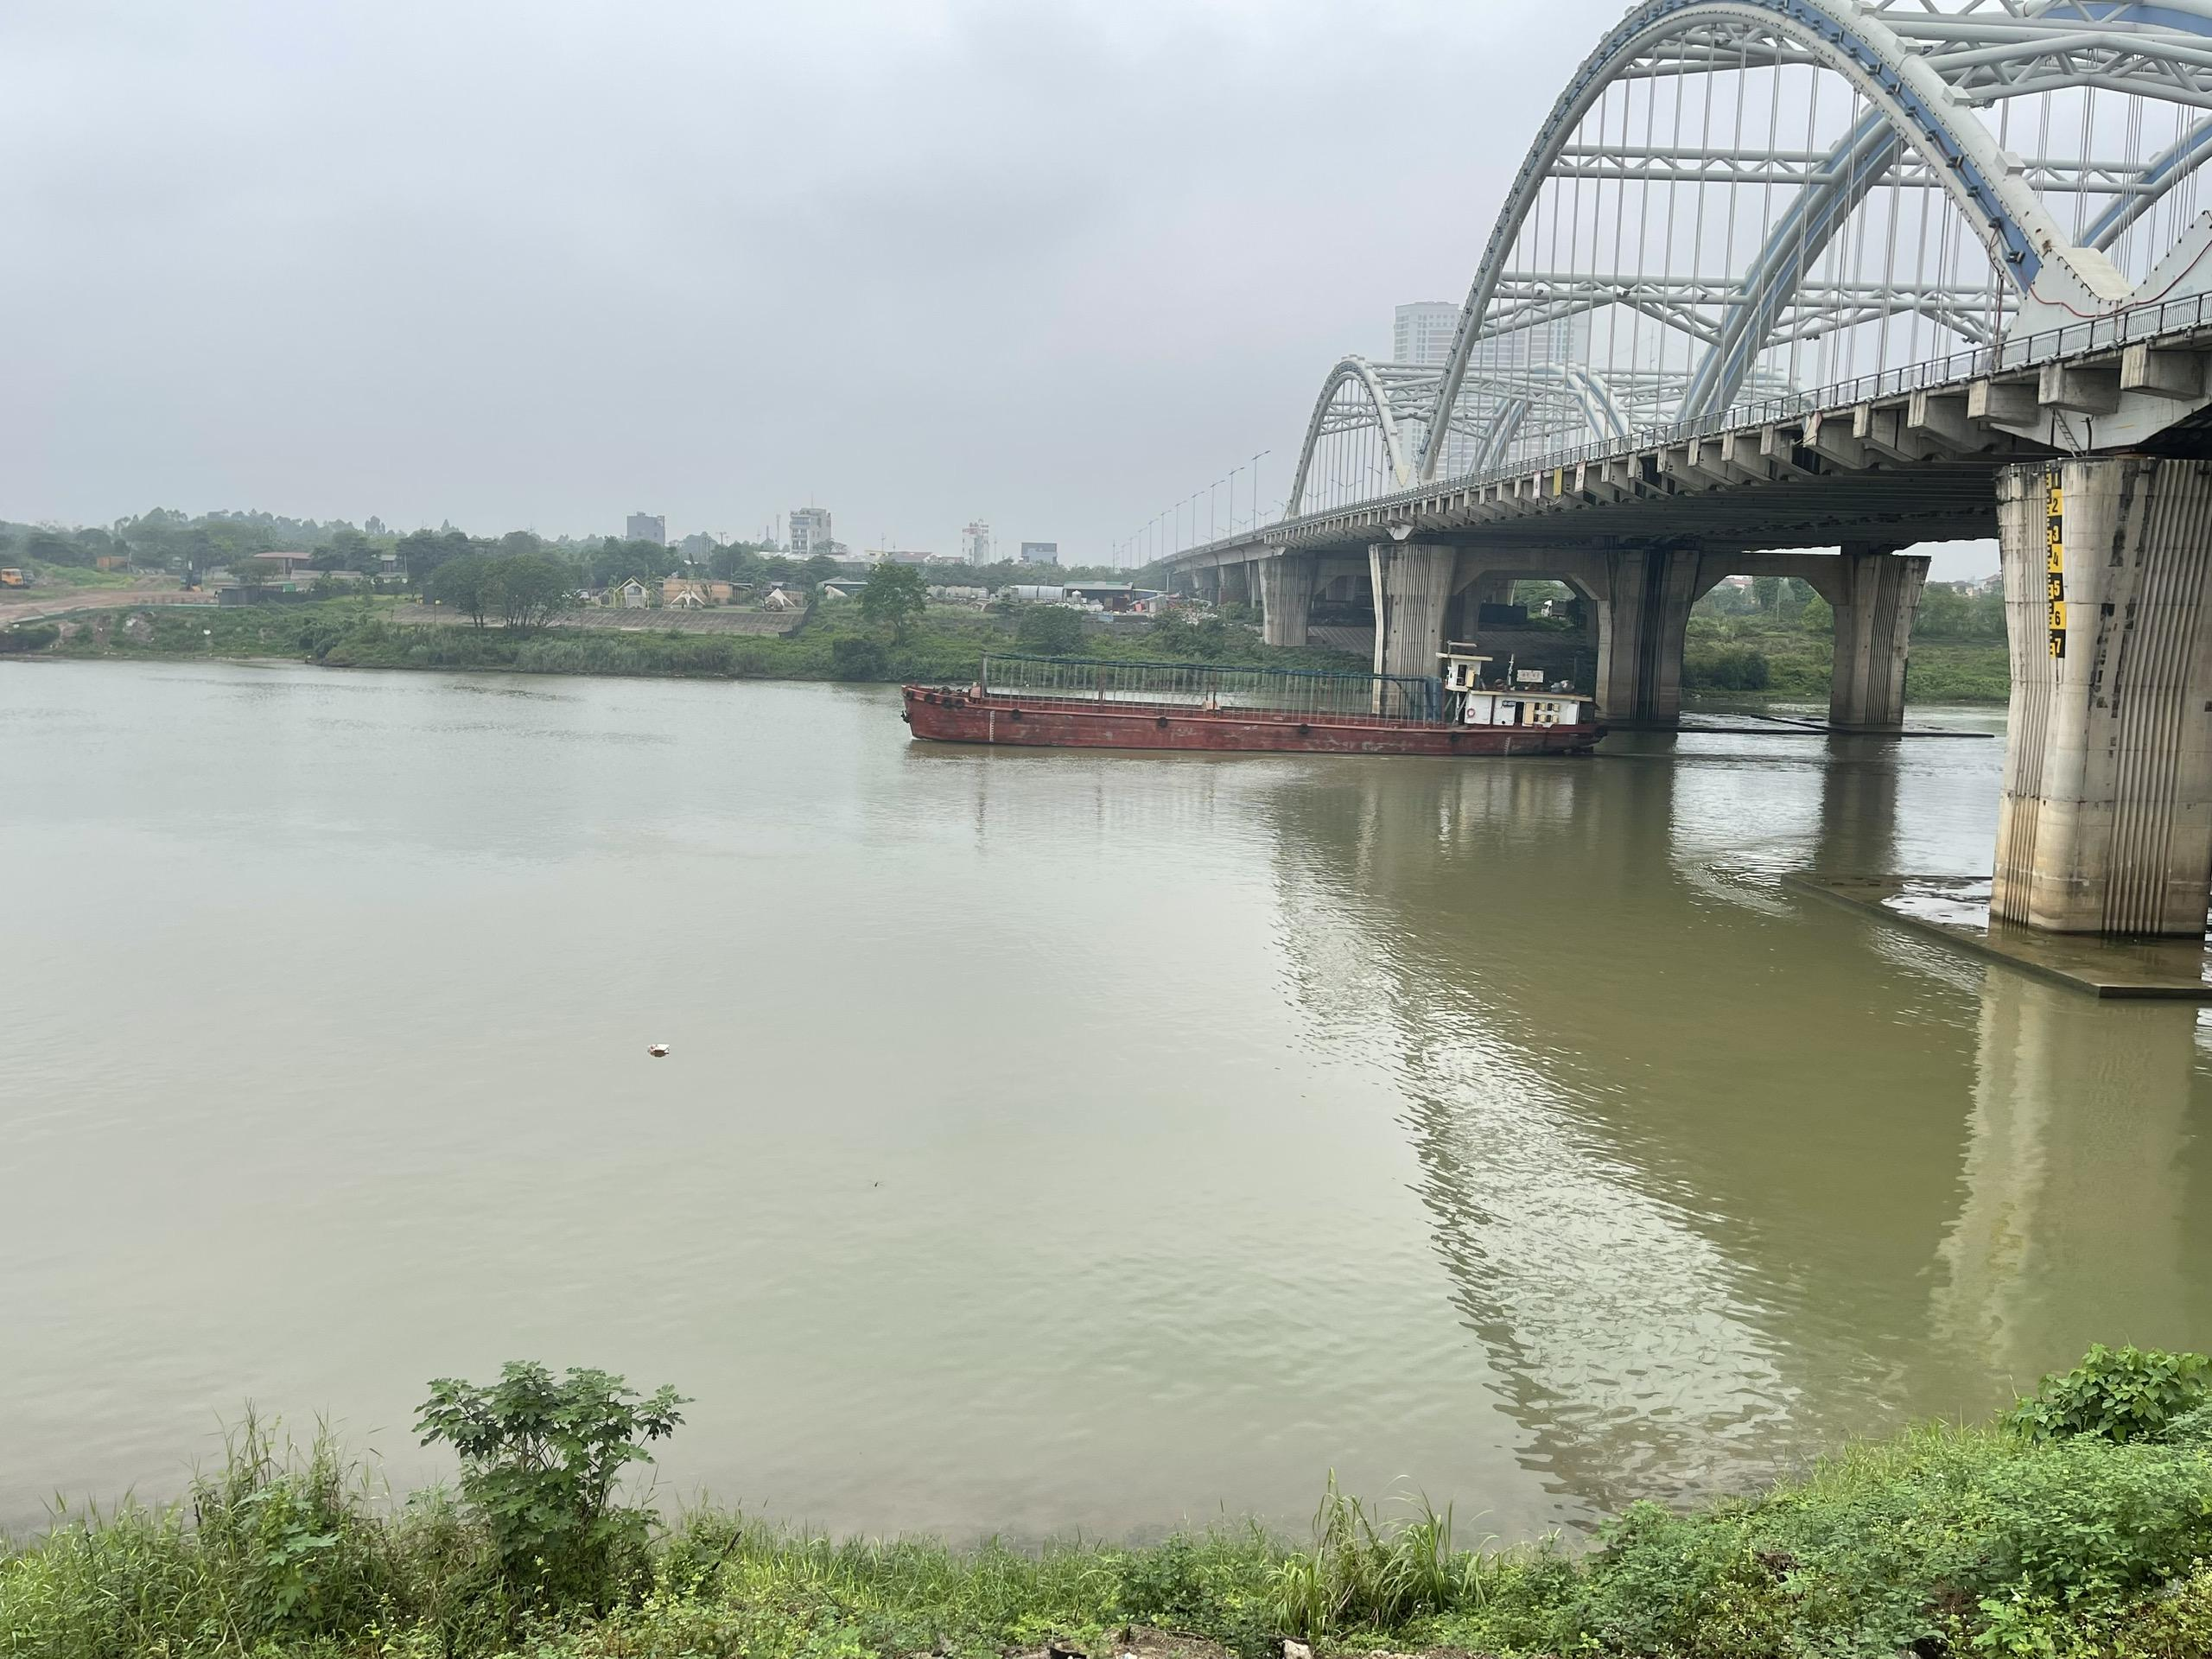Ship: (894, 634, 1611, 769)
